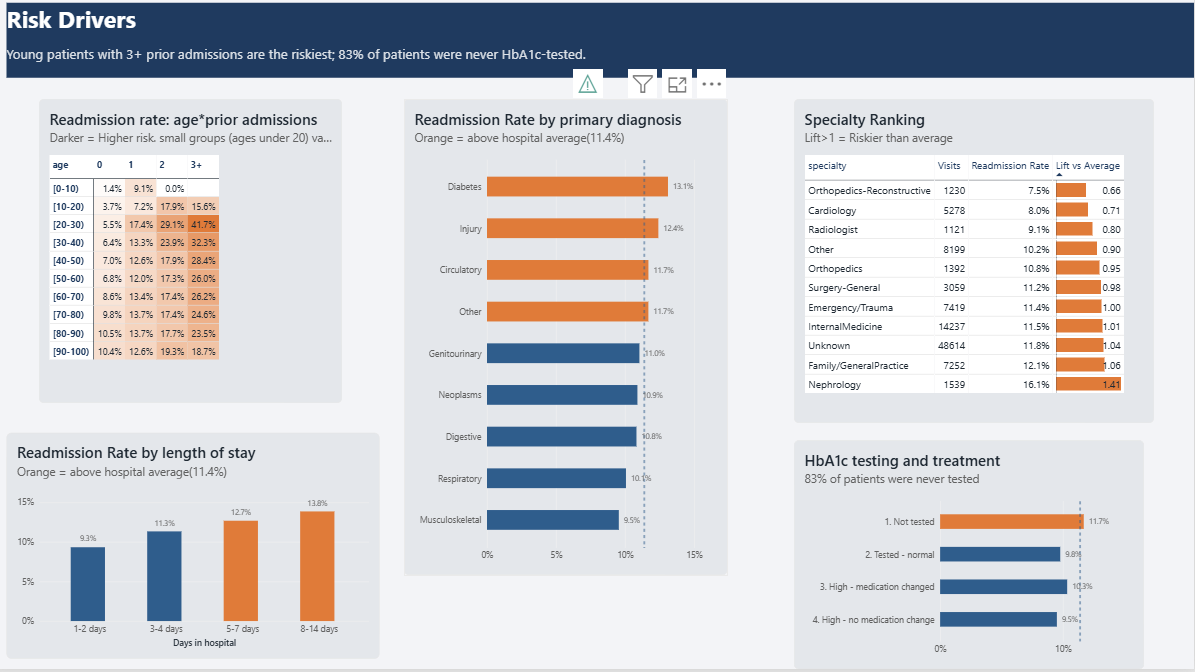

What the dashboard file says about the page in this screenshot:
{"tool":"powerbi","page":{"name":"Risk Drivers","canvas":[1920,1080],"ordinal":1},"visuals":[{"type":"textbox","box":[20,14,1900,120],"z":0},{"type":"pivotTable","title":"Readmission rate: age*prior admissions","fields":{"Columns":["Encounters.prior_inpatient_band"],"Rows":["Encounters.age"],"Values":["_Measures.Readmission Rate"]},"box":[72.4,168.3,485,486.8],"z":1000},{"type":"clusteredBarChart","title":"Readmission Rate by primary diagnosis","fields":{"Category":["Encounters.primary_diagnosis"],"Y":["_Measures.Readmission Rate"]},"box":[656.9,168.3,517.6,761.9],"z":2000},{"type":"clusteredBarChart","title":"HbA1c testing and treatment","fields":{"Category":["Encounters.hba1c_management"],"Y":["_Measures.Readmission Rate"]},"box":[1279.4,714.8,560,366],"z":3000},{"type":"clusteredColumnChart","title":"Readmission Rate by length of stay","fields":{"Category":["Encounters.los_band"],"Y":["_Measures.Readmission Rate"]},"box":[19.9,702.1,597.2,361.9],"z":4000},{"type":"tableEx","title":"Specialty Ranking","fields":{"Values":["Encounters.specialty_group","_Measures.Visits 1","_Measures.Readmission Rate","_Measures.Lift vs Average"]},"box":[1279.4,168.3,576,518],"z":5000}]}

Visuals, with their boxes in screenshot pixels (x1, y1, x2, y2), scaled from the page's 1920x1080 canvas onto the 1195x672 screenshot:
textbox: 12:9:1194:83
"Readmission rate: age*prior admissions" pivotTable: 45:105:347:408
"Readmission Rate by primary diagnosis" clusteredBarChart: 409:105:731:579
"HbA1c testing and treatment" clusteredBarChart: 796:445:1145:671
"Readmission Rate by length of stay" clusteredColumnChart: 12:437:384:662
"Specialty Ranking" tableEx: 796:105:1155:427
